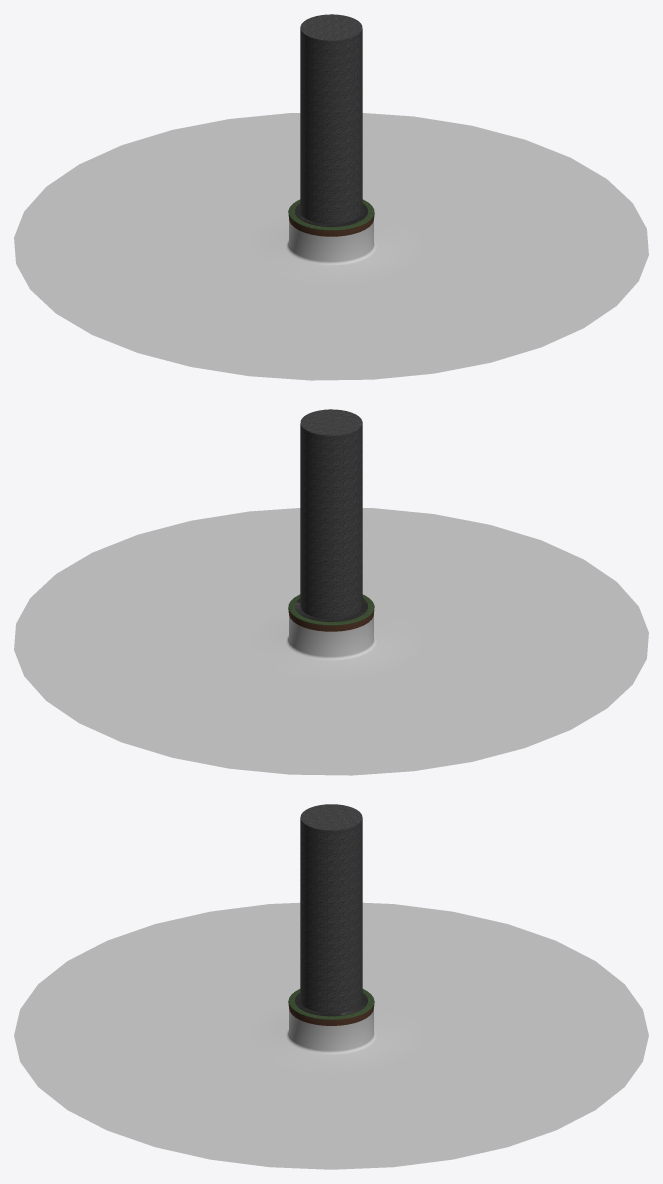
3 views of the same model, one above another, from view 1: azimuth 30°, elevation 25°; view 2: azimuth 150°, elevation 25°; view 3: azimuth 270°, elevation 25° (orthographic).
Visible parts, largest first — view 1: Base; view 2: Base; view 3: Base.
Part boxes in pixels (x1,y1,x2,y2): Base: (14, 14, 648, 380); Base: (14, 409, 648, 775); Base: (14, 804, 648, 1169).
Bounding box in the file's own units: 36368 × 13798 × 36368.
